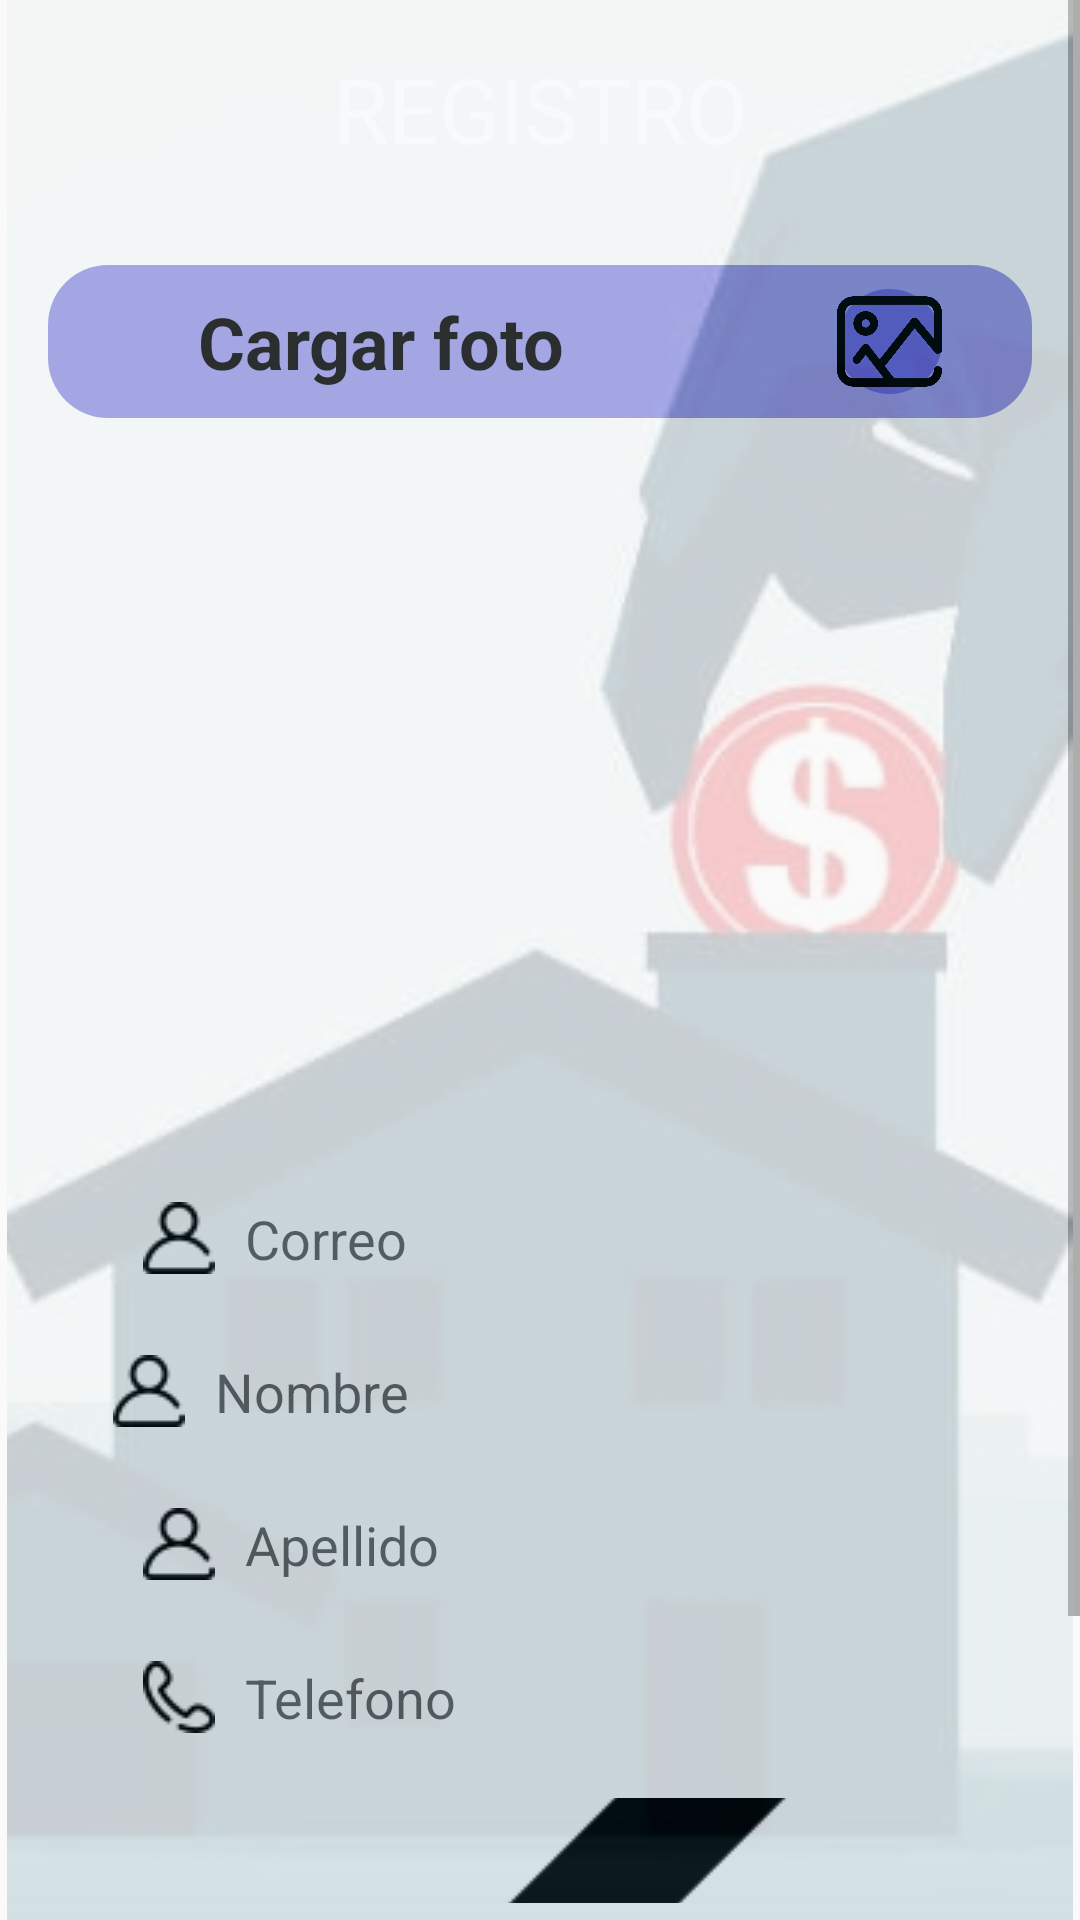

Icons on this 1080px x 1920px Android screen, each with its box as (x1, y1, x2, y2):
gallery: (837, 289, 942, 394)
